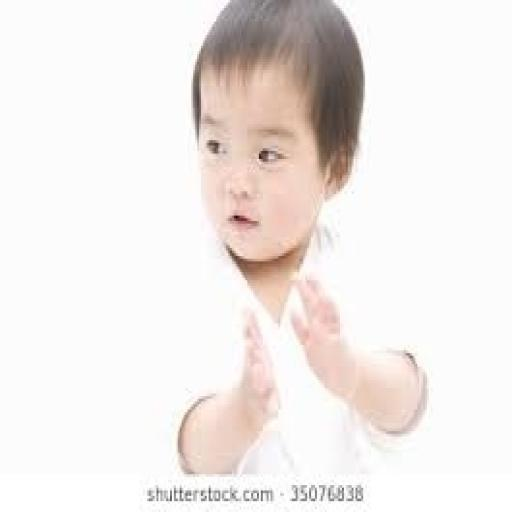clapping: (172, 0, 429, 477)
